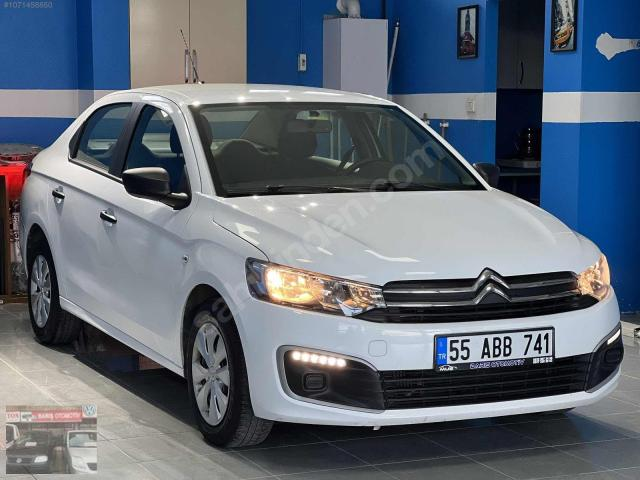plaka: (435, 328, 554, 371)
